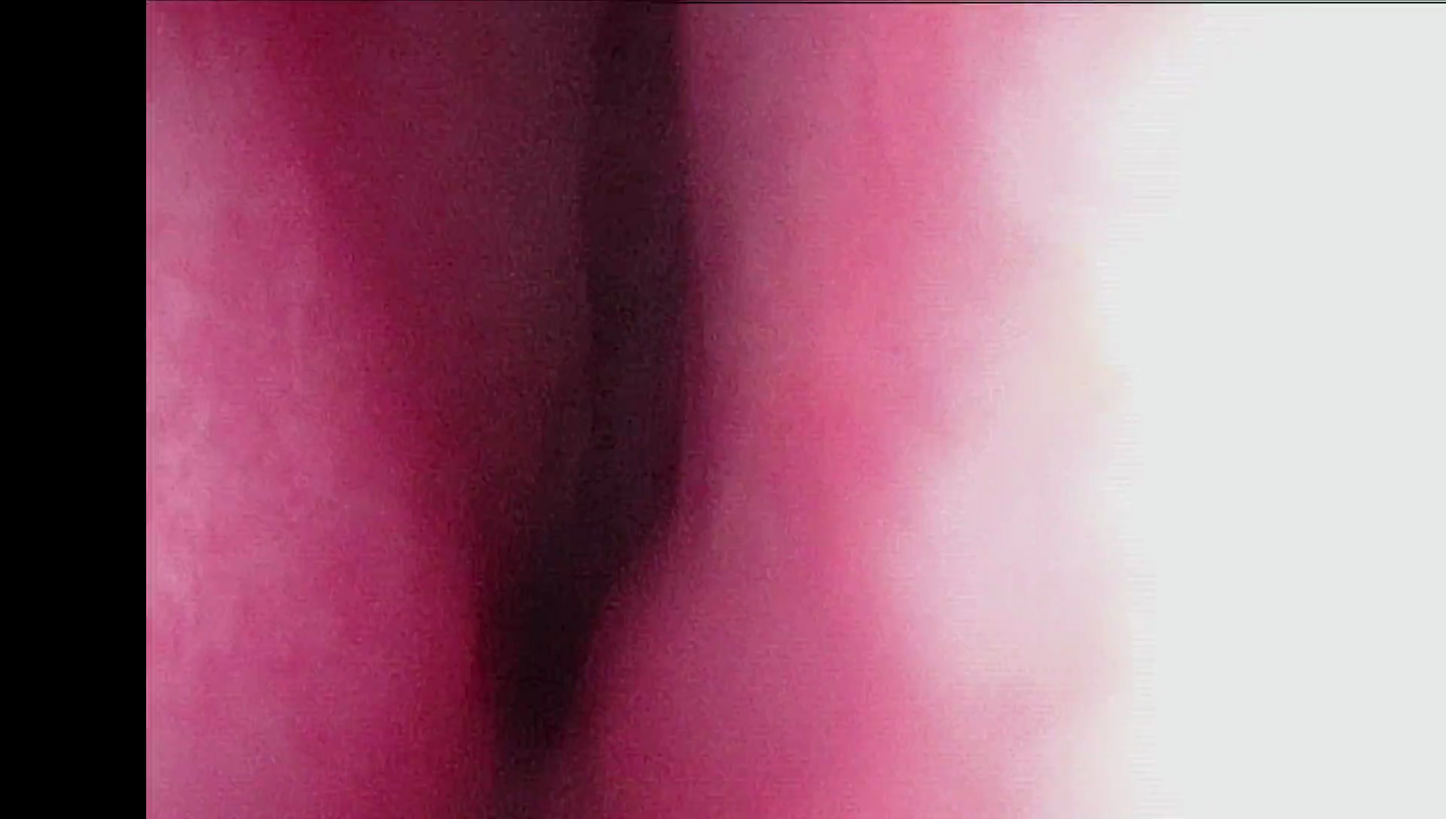close_wall: (779, 7, 1446, 819), (151, 28, 392, 819)
next: (451, 412, 699, 785), (553, 221, 706, 446)
